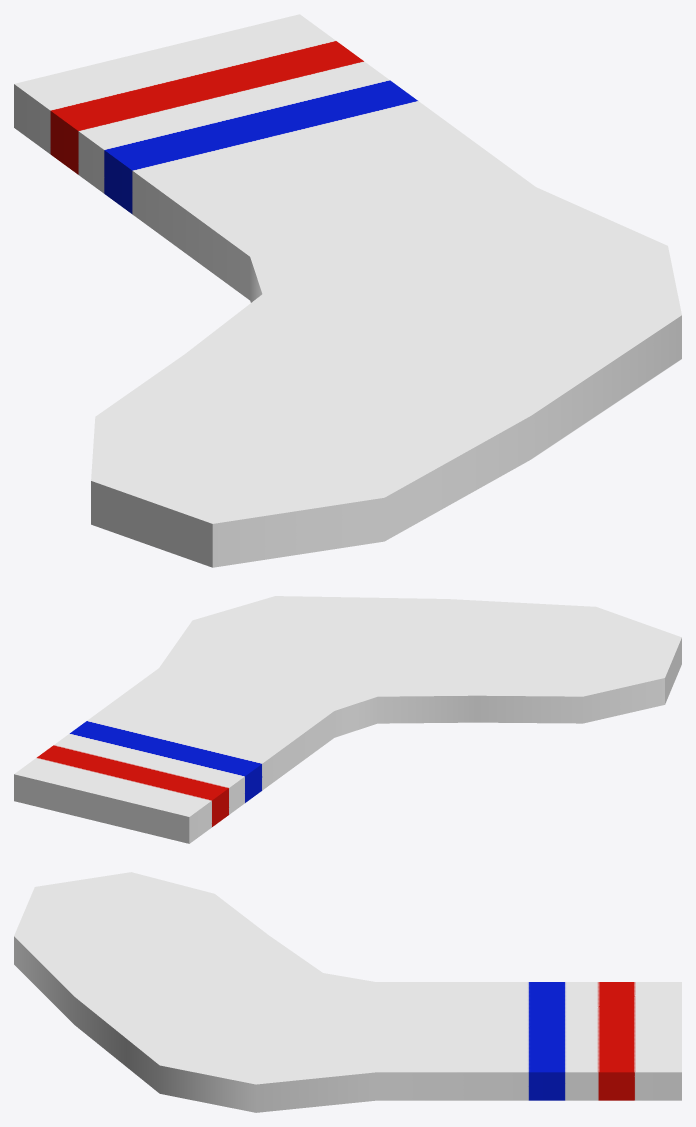
File: Socks_1.FBX
3 views of the same model, one above another, from view 1: azimuth 30°, elevation 25°; view 2: azimuth 150°, elevation 25°; view 3: azimuth 270°, elevation 25° (orthographic). The views are drawn at different scales.
Parts seen in each view (by area): view 1: Line001; view 2: Line001; view 3: Line001.
Boxes of the visible parts, bbox=[...] form: Line001: bbox=[14, 14, 681, 567]; Line001: bbox=[14, 596, 681, 843]; Line001: bbox=[14, 872, 681, 1112].
Bounding box in the file's own units: 120 × 7.45 × 159.
